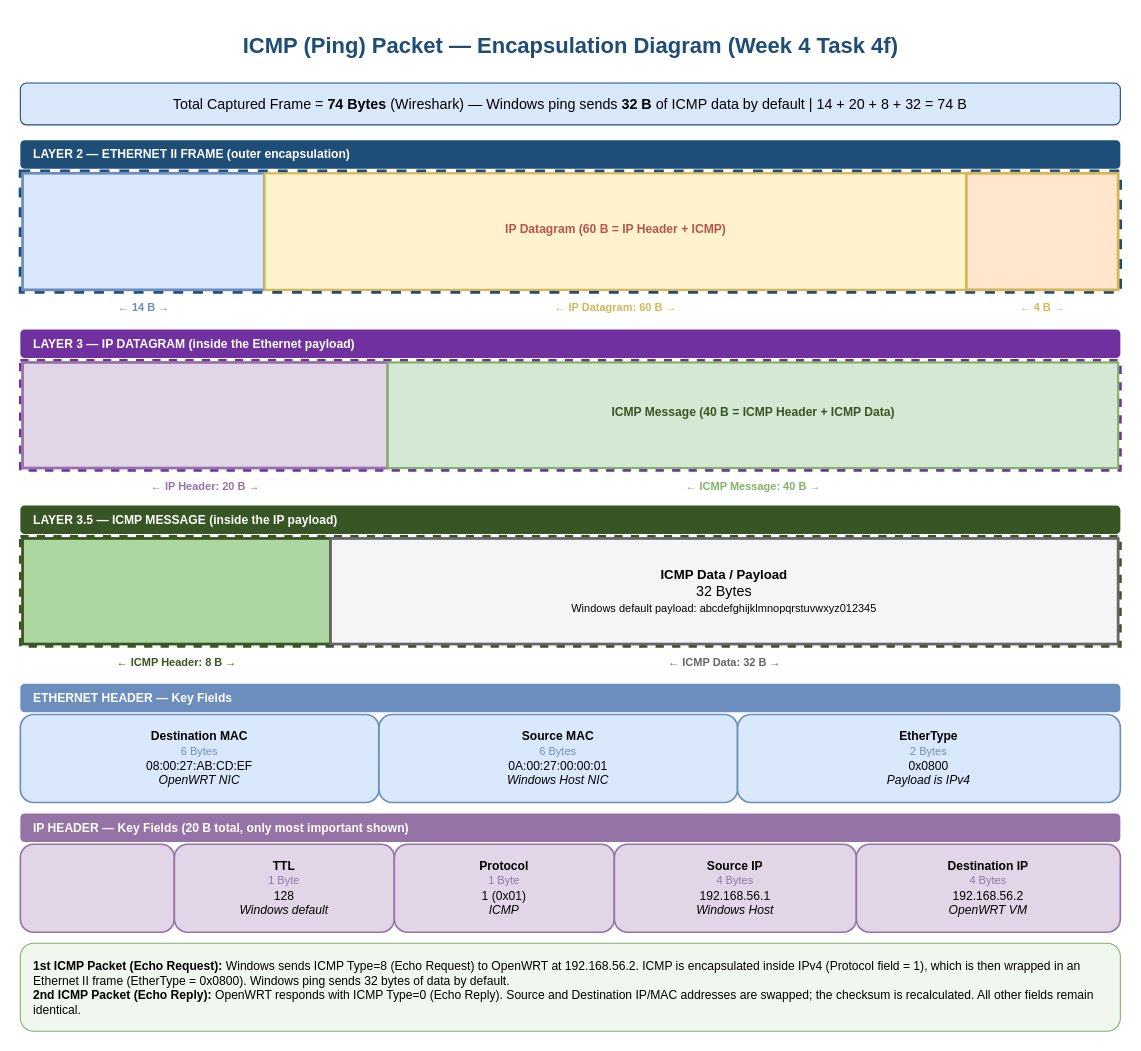
The diagram is 1141 pixels wide and 1051 high, and some of its shapes have lost their labels. Each missing label, with the box of its shape:
Ethernet Header 14 Bytes Dst MAC | Src MAC | EtherType 0x0800: (21, 171, 265, 291)
FCS 4 Bytes Frame Check Sequence: (964, 171, 1119, 291)
ICMP Header 8 Bytes Type | Code | Checksum | ID | Seq#: (21, 537, 331, 645)
IP Header 20 Bytes Ver | IHL | TTL | Protocol=1 | Src IP | Dst IP: (21, 361, 389, 469)
Version 4 bits 4 IPv4: (19, 843, 175, 933)
